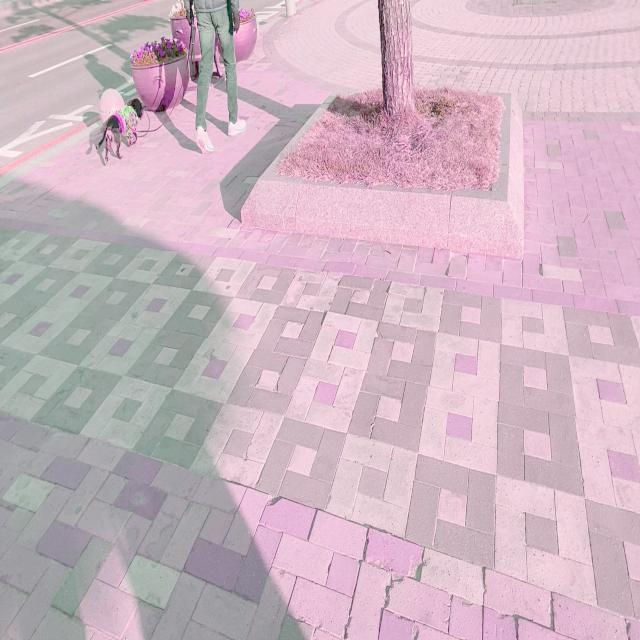Leashed_Dog: (98, 10, 214, 164)
